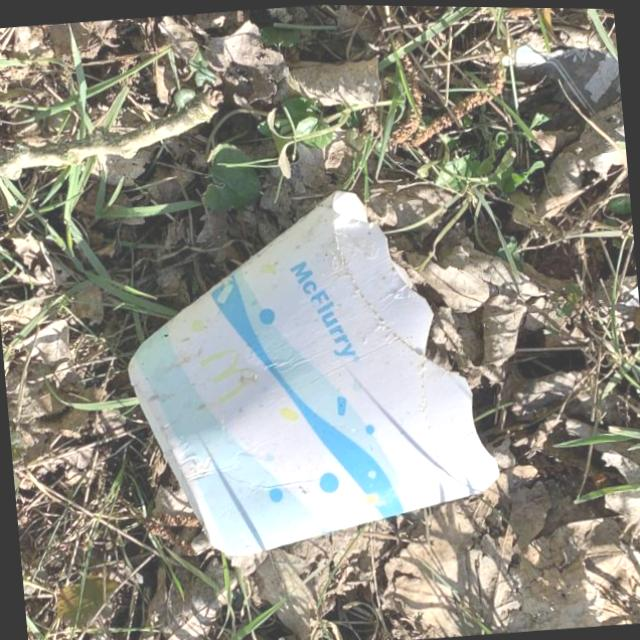Paper: (107, 171, 507, 568)
